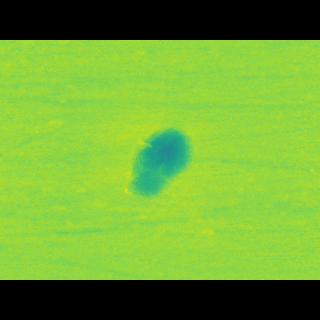Loch: (122, 134, 196, 191)
